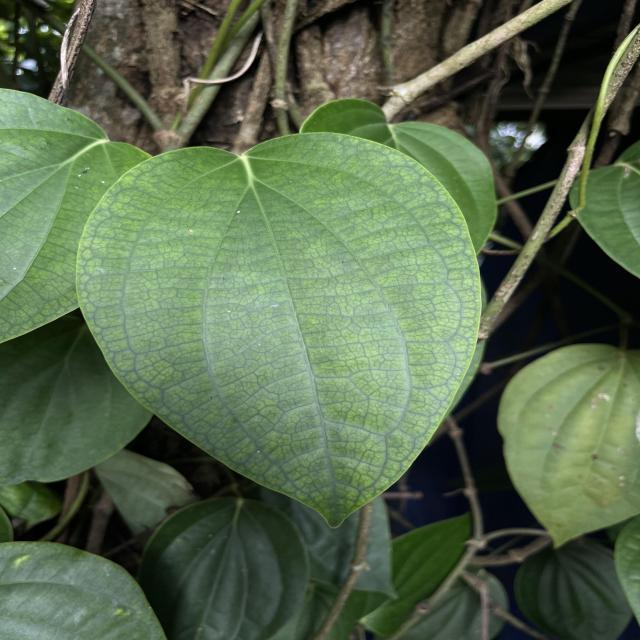Piper nigrum: (74, 128, 486, 531)
